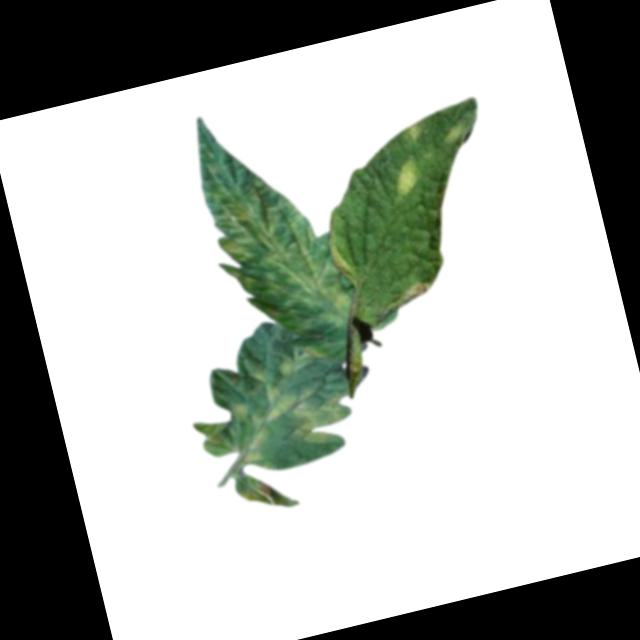Leaf_Mold: (181, 91, 360, 357), (221, 335, 355, 463), (380, 279, 436, 310), (385, 160, 422, 198), (438, 114, 469, 147)
